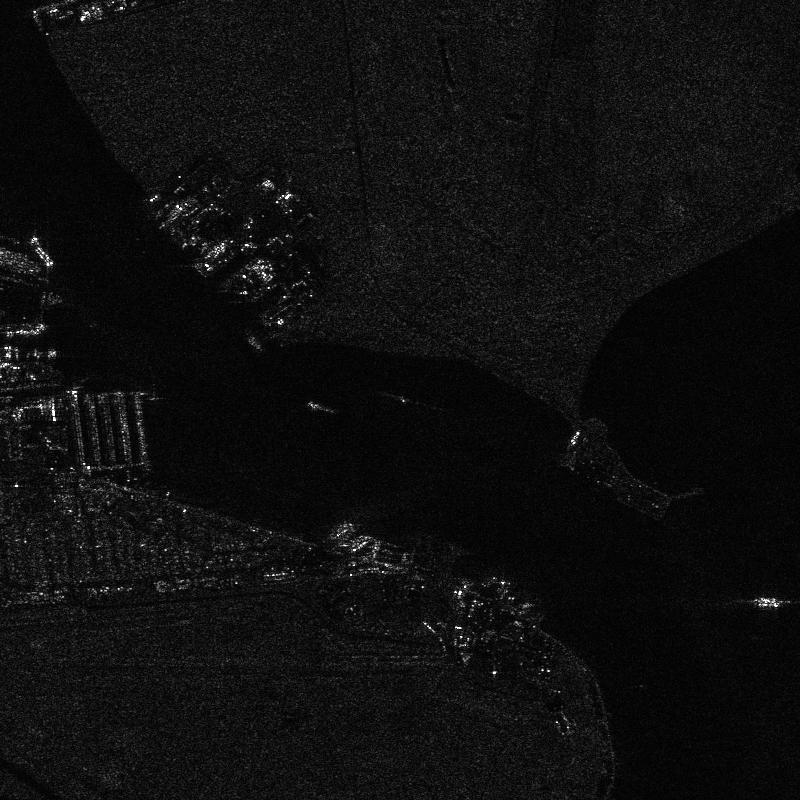ship: (30, 237, 54, 267), (329, 522, 353, 539), (350, 535, 371, 552), (308, 401, 334, 413), (755, 597, 780, 606), (248, 337, 262, 352), (371, 540, 382, 554), (570, 431, 581, 445), (15, 329, 36, 335), (400, 551, 408, 561), (5, 345, 11, 358), (36, 324, 44, 332)
